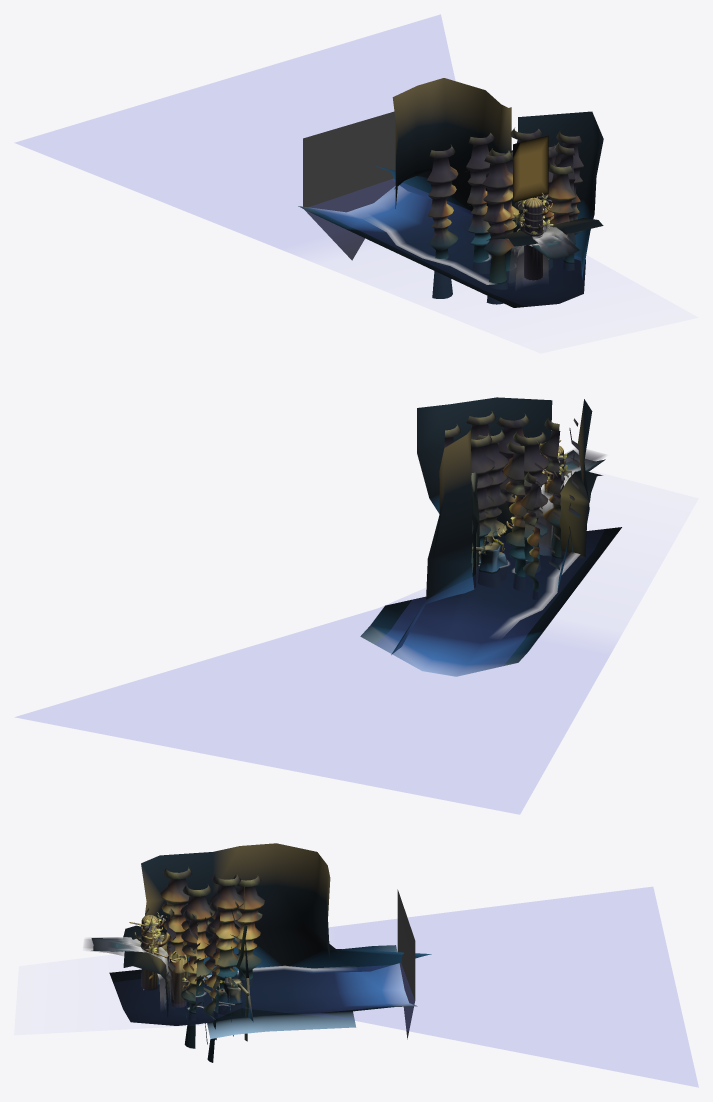
The model's file is 04Spiral.gltf.
The picture shows the model from 3 angles, top to bottom: view 1: azimuth 30°, elevation 25°; view 2: azimuth 150°, elevation 25°; view 3: azimuth 270°, elevation 25°; orthographic projection. The views are drawn at different scales.
Visible parts, largest first — view 1: stg020_w16_Mesh_0000, stg020_o04_Mesh_0006, stg020_o04_Mesh_0001, stg020_g16_Mesh_0000, stg020_k04_Mesh_0000, stg020_falls_w_04_Mesh_0000, stg020_ripple_k_16_Mesh_0000; view 2: stg020_w16_Mesh_0000, stg020_o04_Mesh_0006, stg020_o04_Mesh_0001, stg020_falls_w_04_Mesh_0000, stg020_ripple_k_16_Mesh_0000, stg020_o16_Mesh_0003, stg020_o22_Mesh_6.001; view 3: stg020_w16_Mesh_0000, stg020_o04_Mesh_0006, stg020_o04_Mesh_0001, stg020_g16_Mesh_0000, stg020_falls_w_04_Mesh_0000, stg020_o16_Mesh_0003, stg020_o04_Mesh_0008, stg020_ripple_k_16_Mesh_0000.
Boxes of the visible parts, x1,y1,x2,y2 form: stg020_w16_Mesh_0000: (16,14,472,260); stg020_o04_Mesh_0006: (298,78,603,307); stg020_o04_Mesh_0001: (427,128,583,304); stg020_g16_Mesh_0000: (303,111,395,260); stg020_k04_Mesh_0000: (513,135,548,202); stg020_falls_w_04_Mesh_0000: (509,226,581,288); stg020_ripple_k_16_Mesh_0000: (365,216,495,284); stg020_w16_Mesh_0000: (15,593,619,814); stg020_o04_Mesh_0006: (360,397,621,676); stg020_o04_Mesh_0001: (444,411,580,599); stg020_falls_w_04_Mesh_0000: (537,449,604,555); stg020_ripple_k_16_Mesh_0000: (478,553,580,635); stg020_o16_Mesh_0003: (477,547,507,588); stg020_o22_Mesh_6.001: (471,472,479,589); stg020_w16_Mesh_0000: (302,887,698,1087); stg020_o04_Mesh_0006: (91,843,431,1038); stg020_o04_Mesh_0001: (141,867,264,1062); stg020_g16_Mesh_0000: (397,889,415,1039); stg020_falls_w_04_Mesh_0000: (84,937,174,1009); stg020_o16_Mesh_0003: (215,982,242,1015); stg020_o04_Mesh_0008: (129,916,232,989); stg020_ripple_k_16_Mesh_0000: (187,965,350,1010).
Bounding box in the file's own units: 350 × 157 × 503.
